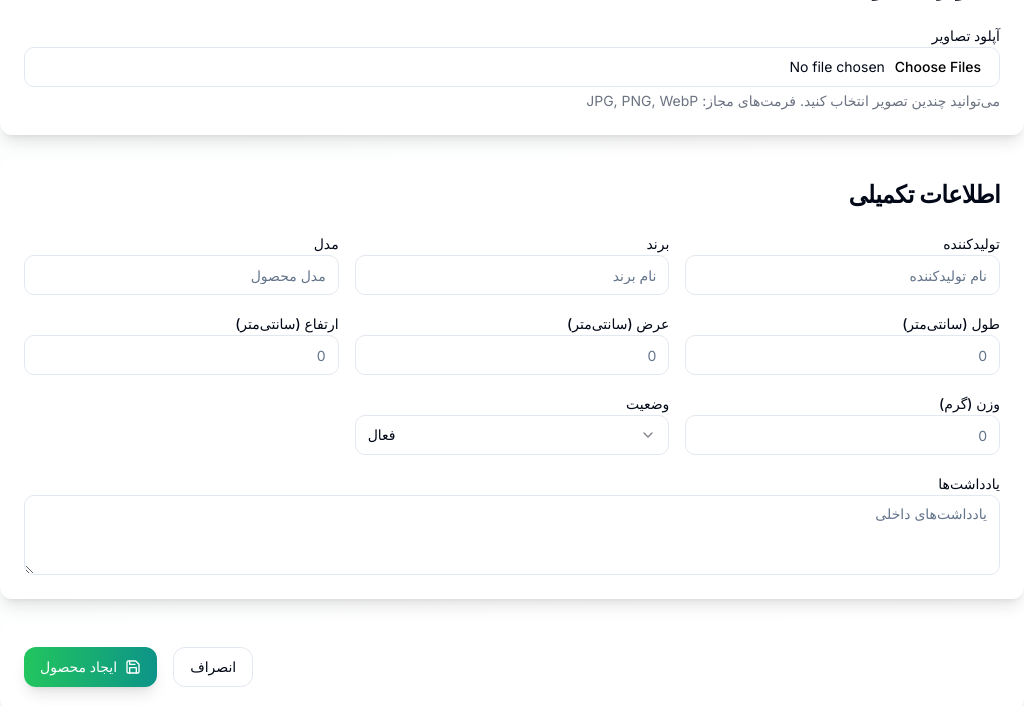
Test: ProductForm › validates required fields
This screenshot has width=1024, height=706.
(page scrolled)
// Try to submit without required fields
Click the button "ایجاد محصول" at (91, 667), box [24, 647, 157, 687]
(page scrolled)
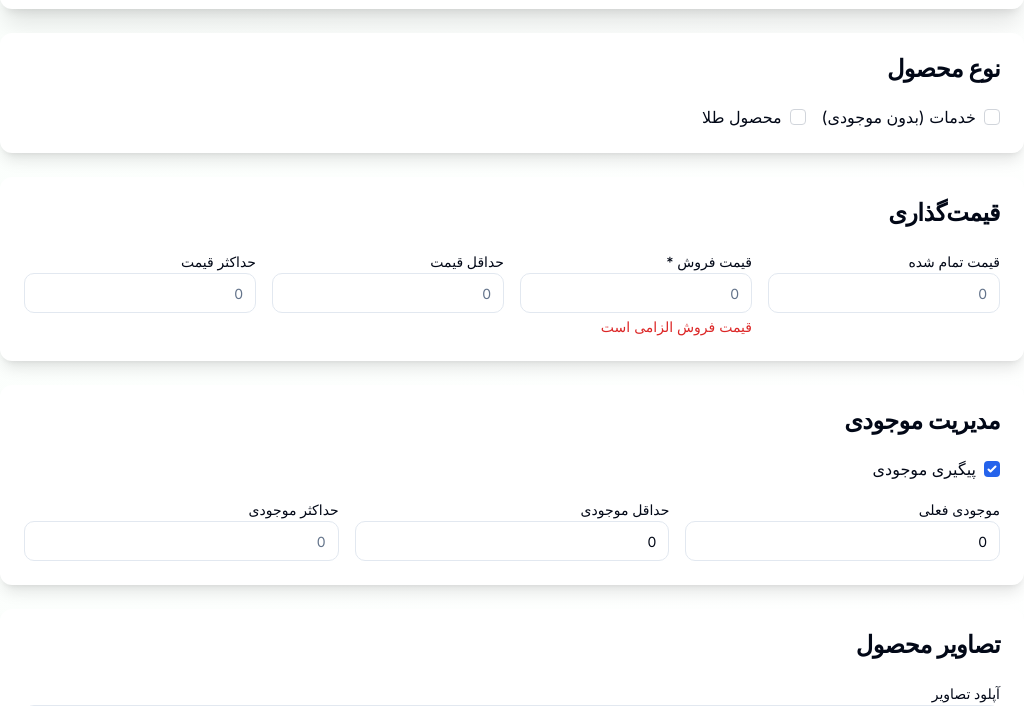
Now the text "قیمت فروش الزامی است" is shown, box [601, 318, 752, 335]
